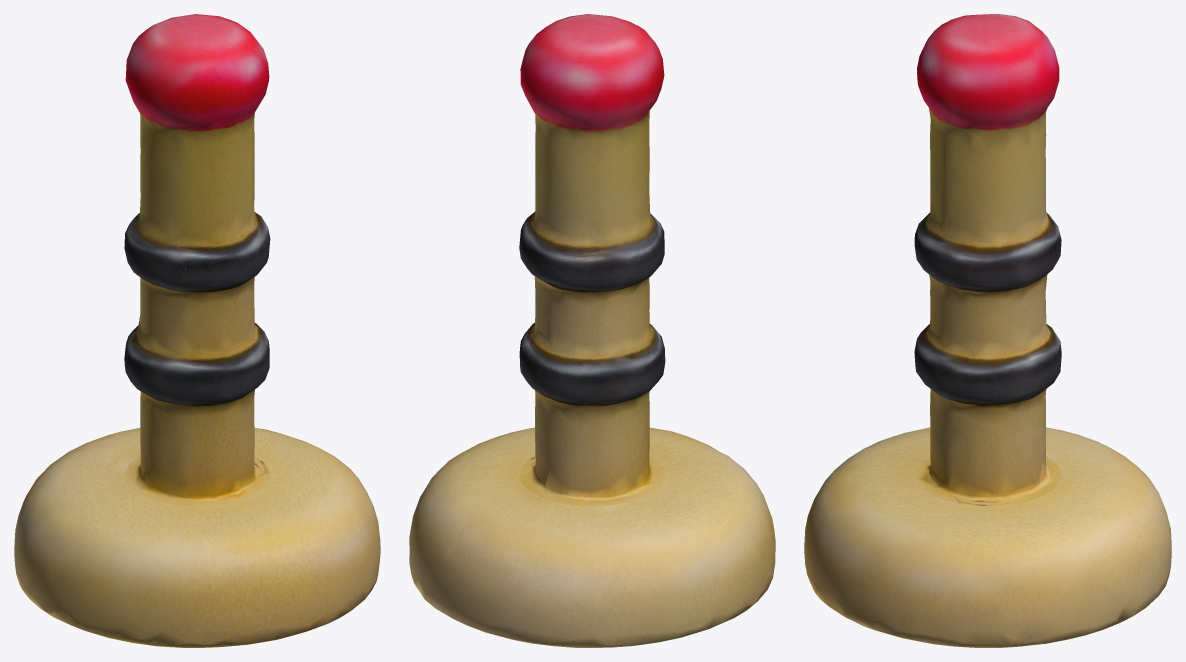
Rendered from Prop_BarrierPost.glb.
3 views of the same model, side by side, from view 1: azimuth 30°, elevation 25°; view 2: azimuth 150°, elevation 25°; view 3: azimuth 270°, elevation 25° (orthographic).
Parts seen in each view (by area): view 1: input; view 2: input; view 3: input.
Boxes of the visible parts, bbox=[...] form: input: bbox=[14, 14, 380, 647]; input: bbox=[409, 14, 775, 647]; input: bbox=[804, 14, 1171, 647].
Size of the model in its own units: 0.605 by 1 by 0.6052.
1 material, 1 textured.
